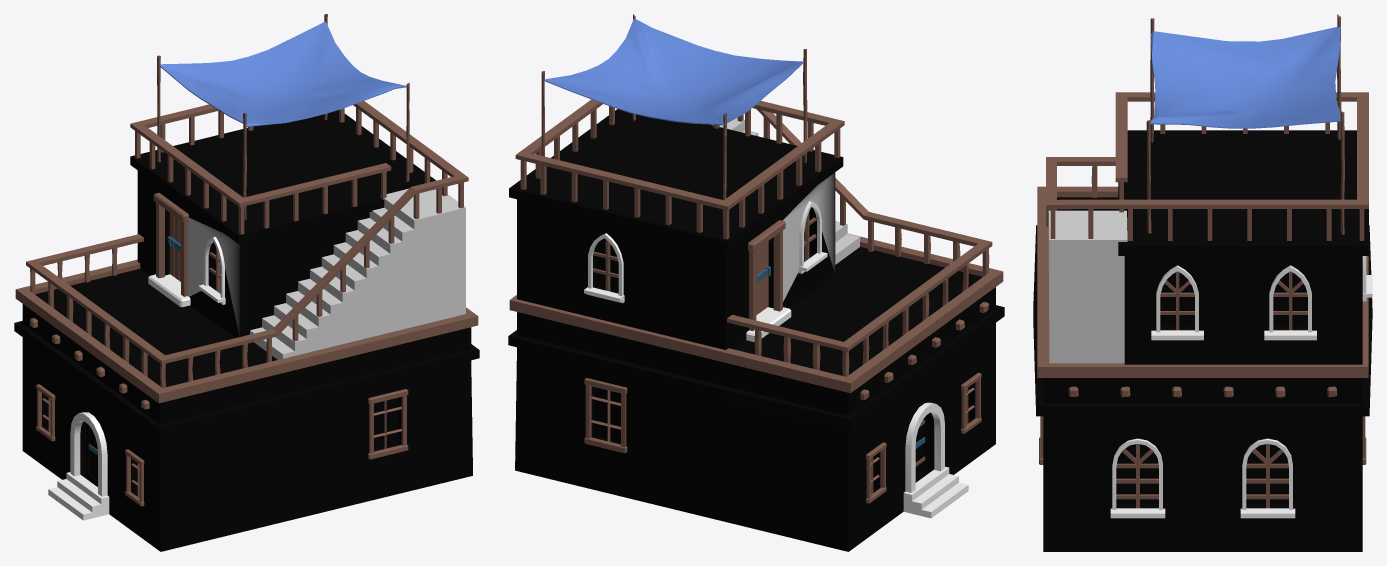
File: civilian_house_32_c.FBX
The picture shows the model from 3 angles, left to right: view 1: azimuth 30°, elevation 25°; view 2: azimuth 150°, elevation 25°; view 3: azimuth 270°, elevation 25°; orthographic projection. The views are drawn at different scales.
Parts seen in each view (by area): view 1: civilian_house_32_c_LOD0; view 2: civilian_house_32_c_LOD0; view 3: civilian_house_32_c_LOD0.
Boxes of the visible parts, x1=… form: civilian_house_32_c_LOD0: x1=14, y1=14, x2=479, y2=551; civilian_house_32_c_LOD0: x1=508, y1=14, x2=1004, y2=551; civilian_house_32_c_LOD0: x1=1033, y1=14, x2=1372, y2=551.
Size of what is drawn, in the model's own units: 1157 by 1194 by 851.
